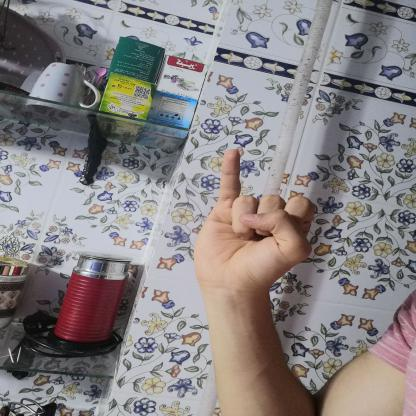MEEM: (176, 138, 334, 302)
